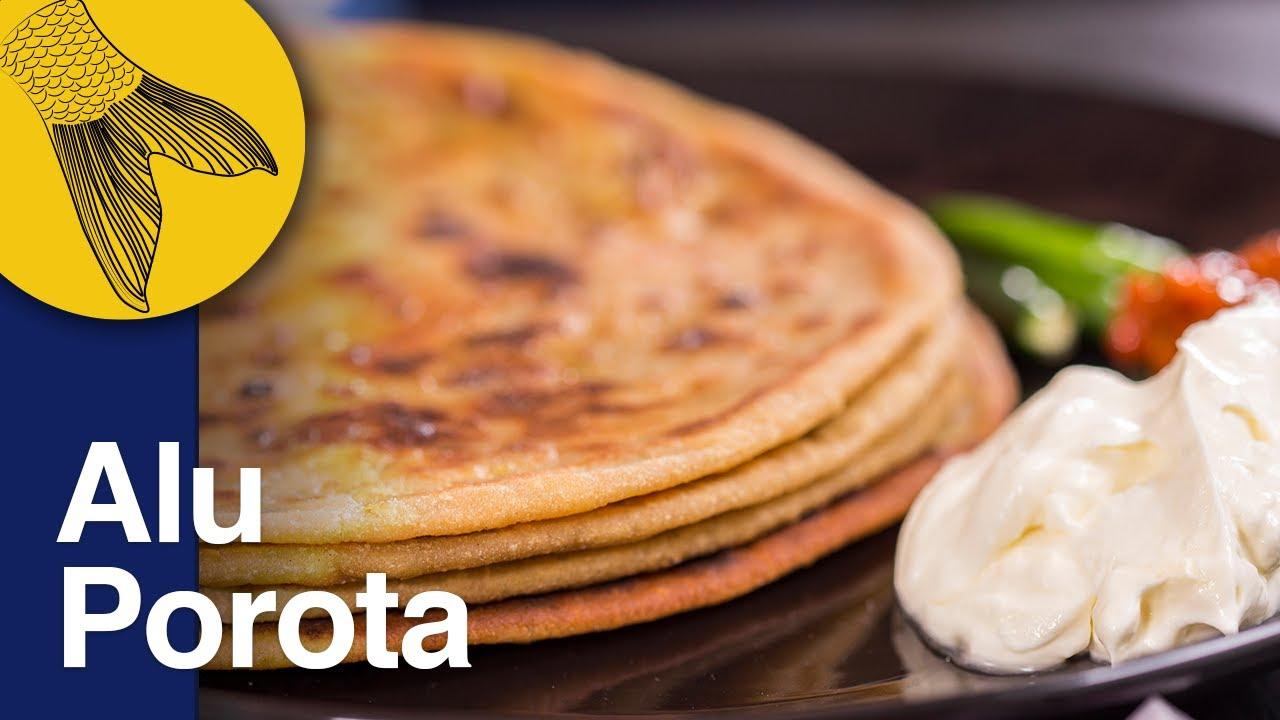aloo_paratha: (188, 6, 1008, 667)
